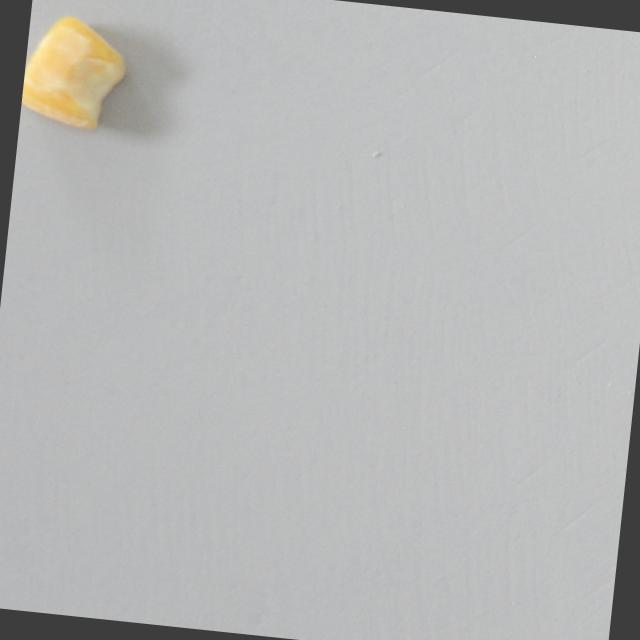pelicula: (19, 12, 140, 135)
